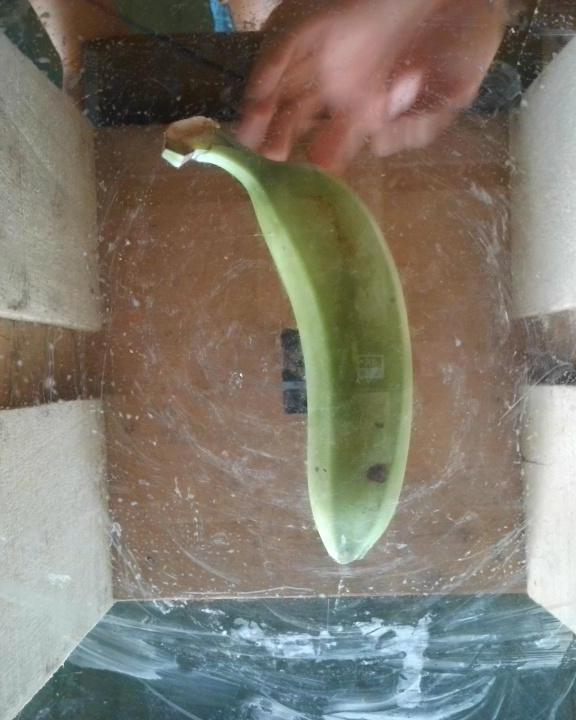CLASS B: (161, 115, 425, 567)
Class A: (365, 456, 395, 493)
